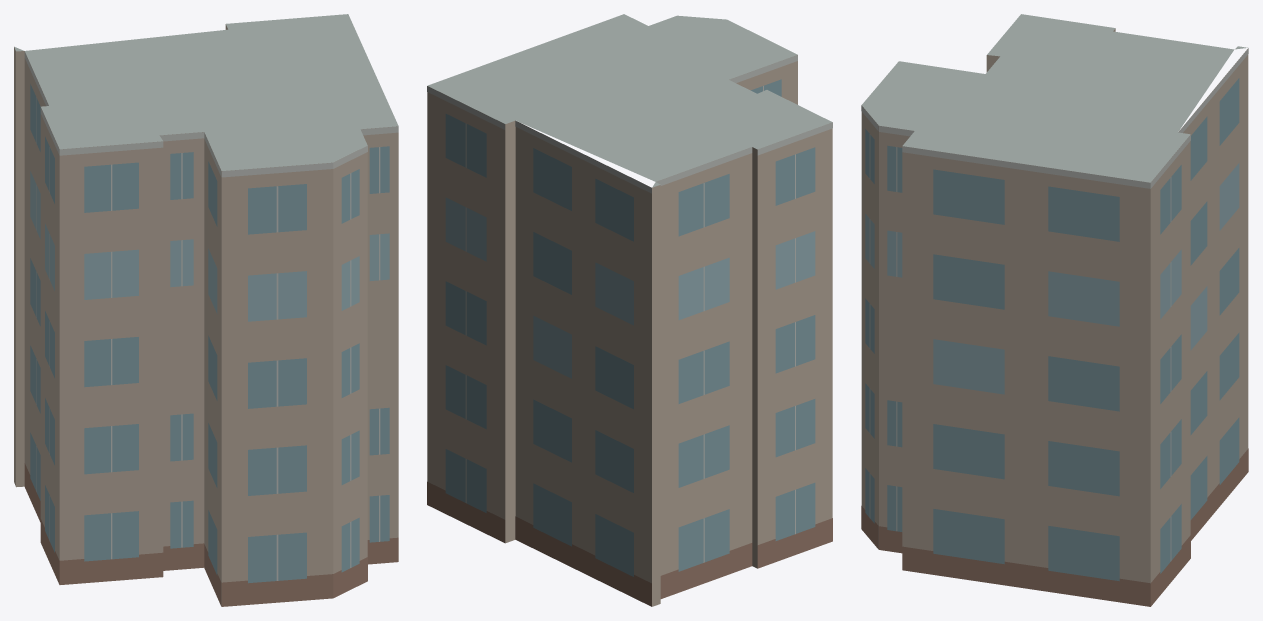
File: survey-upis-32539116.glb
3 renders of one model, left to right at view 1: azimuth 30°, elevation 25°; view 2: azimuth 150°, elevation 25°; view 3: azimuth 270°, elevation 25°, orthographic. The views are drawn at different scales.
Parts seen in each view (by area): view 1: survey-upis-32539116.tmp; view 2: survey-upis-32539116.tmp; view 3: survey-upis-32539116.tmp.
Part boxes in pixels (x1=…): survey-upis-32539116.tmp: x1=14, y1=14, x2=398, y2=606; survey-upis-32539116.tmp: x1=427, y1=14, x2=832, y2=606; survey-upis-32539116.tmp: x1=861, y1=14, x2=1248, y2=606.
Bounding box in the file's own units: 14.3 × 16.75 × 13.86.
